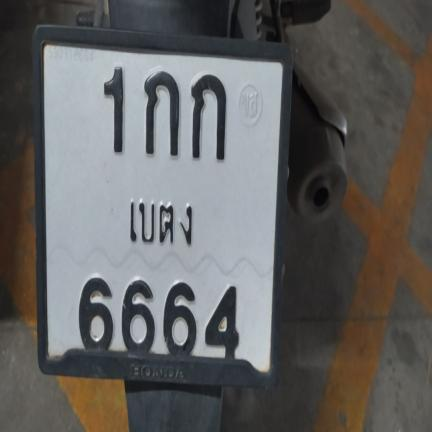1: (97, 59, 128, 155)
4: (205, 282, 243, 359)
6: (73, 274, 116, 351), (119, 274, 158, 350), (162, 279, 198, 360)
A01: (185, 60, 230, 164), (137, 57, 182, 160)
BETONG: (123, 187, 197, 252)
